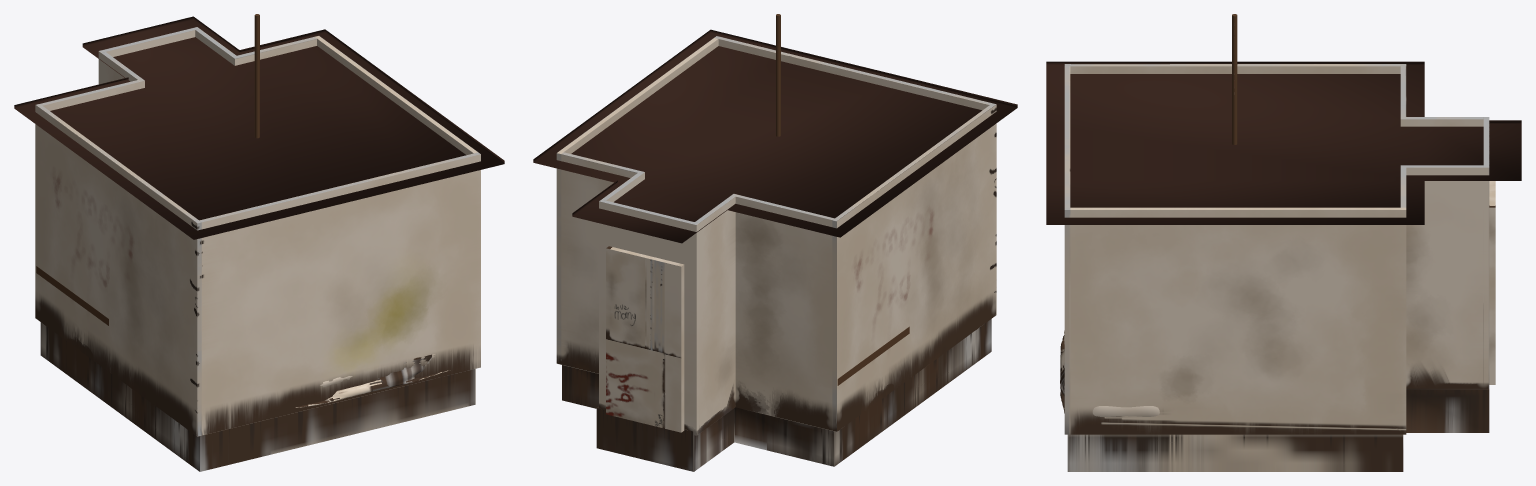
Rendered from Childs house _Finished Model_WITH TEXTURES_.fbx.
The picture shows the model from 3 angles, left to right: view 1: azimuth 30°, elevation 25°; view 2: azimuth 150°, elevation 25°; view 3: azimuth 270°, elevation 25°; orthographic projection. The views are drawn at different scales.
Visible parts, largest first — view 1: Cube, Cube.019, Cube.013, Cube.014; view 2: Cube, Cube.019, Cube.013, Cube.014; view 3: Cube, Cube.019, Cube.013, Cube.014, Cube.010.
Part boxes in pixels (bbox=[...]): Cube: bbox=[35, 27, 480, 471]; Cube.019: bbox=[14, 16, 504, 239]; Cube.013: bbox=[295, 354, 450, 407]; Cube.014: bbox=[36, 14, 259, 325]; Cube: bbox=[556, 36, 996, 471]; Cube.019: bbox=[533, 29, 1017, 243]; Cube.013: bbox=[606, 246, 684, 432]; Cube.014: bbox=[776, 14, 909, 385]; Cube: bbox=[1064, 64, 1489, 471]; Cube.019: bbox=[1046, 61, 1521, 224]; Cube.013: bbox=[1060, 181, 1495, 413]; Cube.014: bbox=[1232, 14, 1237, 144]; Cube.010: bbox=[1092, 406, 1159, 416].
Bounding box in the file's own units: 7159 × 8049 × 8998.
